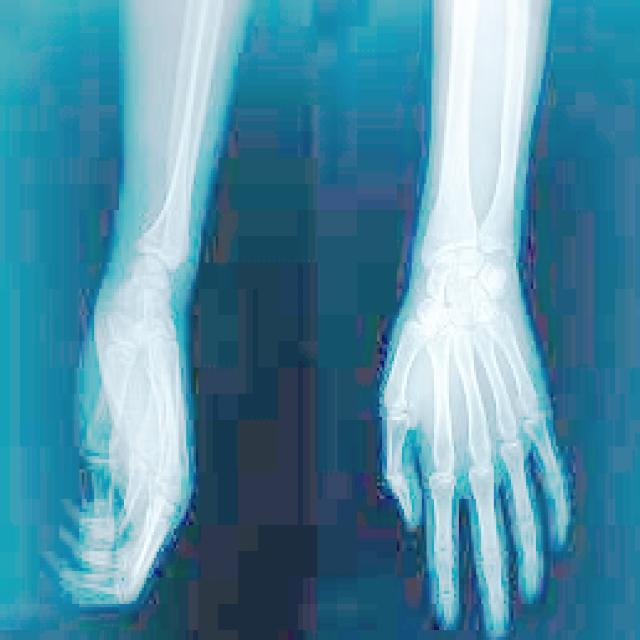Comminuted Fracture: (469, 218, 519, 266)
